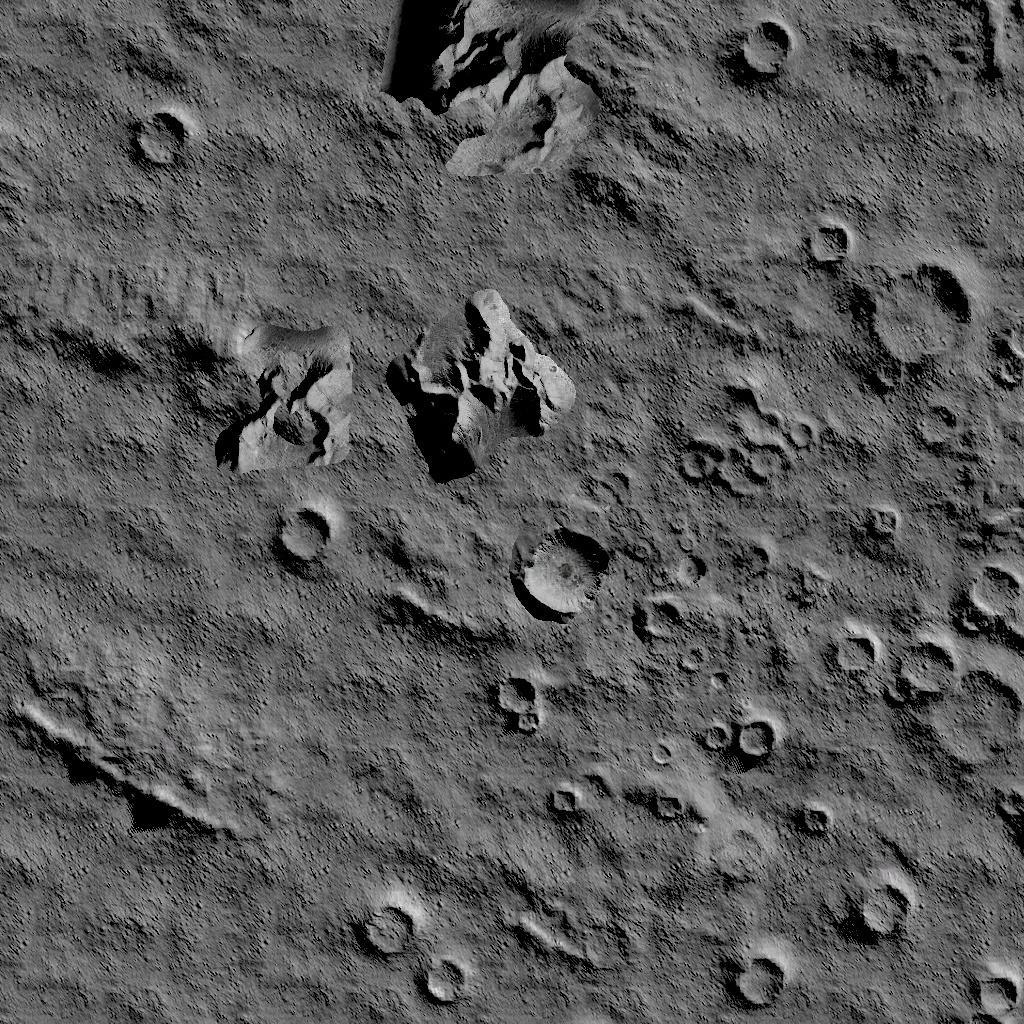Boulders: (5, 260, 358, 470), (378, 0, 652, 218), (12, 686, 234, 876), (382, 286, 580, 486), (364, 516, 496, 660), (0, 120, 51, 245)
Crater: (825, 566, 1024, 768), (861, 258, 1024, 456), (669, 360, 817, 510), (344, 888, 466, 1007), (510, 510, 622, 630), (634, 540, 706, 654), (116, 102, 208, 186), (716, 2, 803, 90), (838, 865, 924, 948), (260, 496, 344, 580), (692, 704, 782, 767), (945, 954, 1020, 1024), (719, 940, 793, 1008), (488, 671, 546, 740), (792, 218, 850, 277), (538, 766, 590, 824), (790, 794, 842, 844), (637, 779, 689, 828), (989, 782, 1024, 850), (856, 496, 904, 544)
Plan surface: (5, 494, 251, 668), (6, 894, 332, 1024), (255, 686, 473, 858), (740, 103, 1024, 202), (241, 46, 353, 237)
